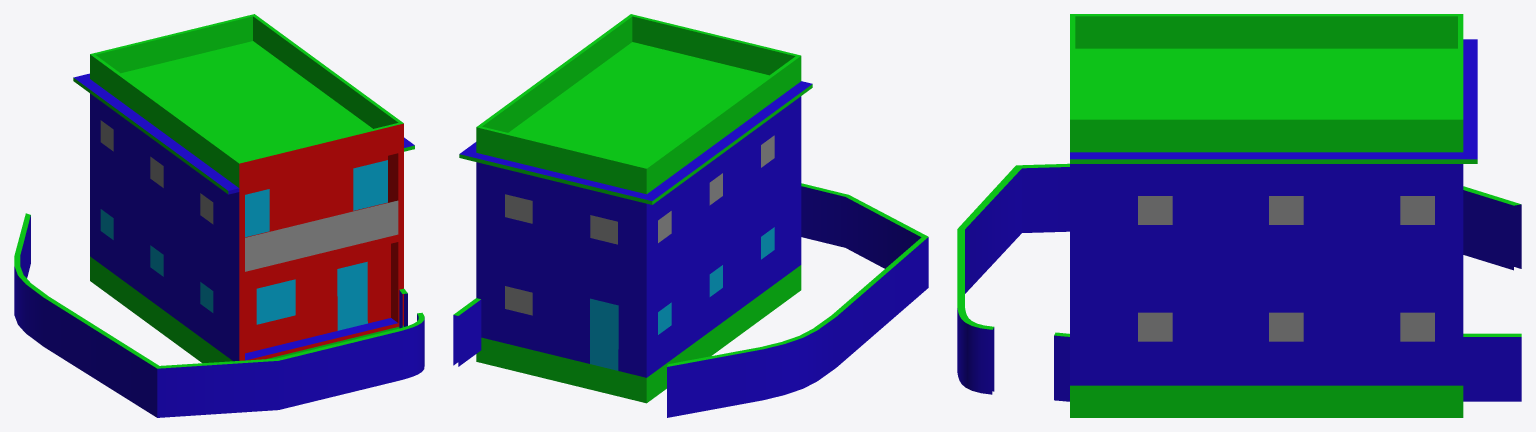
The model's file is old_build02.FBX.
3 views of the same model, side by side, from view 1: azimuth 30°, elevation 25°; view 2: azimuth 150°, elevation 25°; view 3: azimuth 270°, elevation 25° (orthographic). The views are drawn at different scales.
Parts seen in each view (by area): view 1: Box001, Object001; view 2: Box001, Object001; view 3: Box001, Object001.
Part boxes in pixels (x1=…): Box001: x1=14, y1=14, x2=424, y2=417; Object001: x1=100, y1=120, x2=398, y2=271; Box001: x1=453, y1=14, x2=928, y2=417; Object001: x1=505, y1=135, x2=774, y2=315; Box001: x1=957, y1=14, x2=1521, y2=417; Object001: x1=1138, y1=196, x2=1434, y2=341.
Size of the model in its own units: 12.34 by 15.78 by 9.2.
